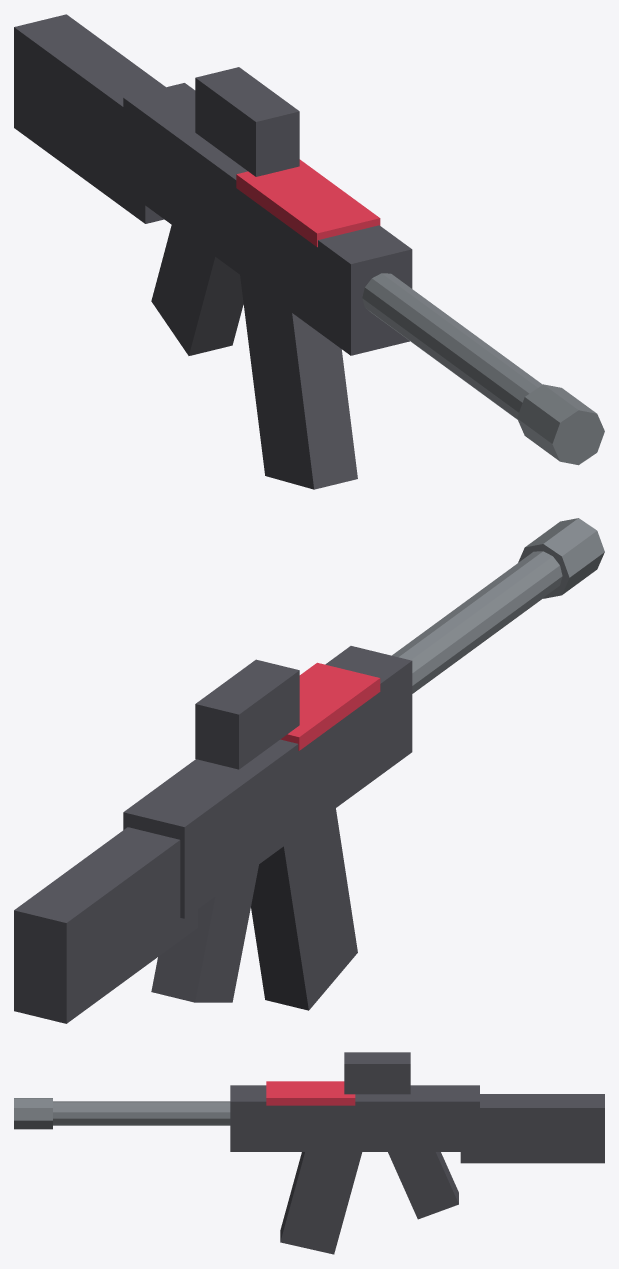
File: assault_carbine.glb
The picture shows the model from 3 angles, top to bottom: view 1: azimuth 30°, elevation 25°; view 2: azimuth 150°, elevation 25°; view 3: azimuth 270°, elevation 25°; orthographic projection. The views are drawn at different scales.
Visible parts, largest first — view 1: AssaultCarbine; view 2: AssaultCarbine; view 3: AssaultCarbine.
Boxes of the visible parts, left/top/right/bottom form: AssaultCarbine: left=14, top=14, right=604, bottom=489; AssaultCarbine: left=14, top=518, right=604, bottom=1023; AssaultCarbine: left=14, top=1052, right=604, bottom=1254.
Size of the model in its own units: 0.072 by 0.3788 by 1.06.
